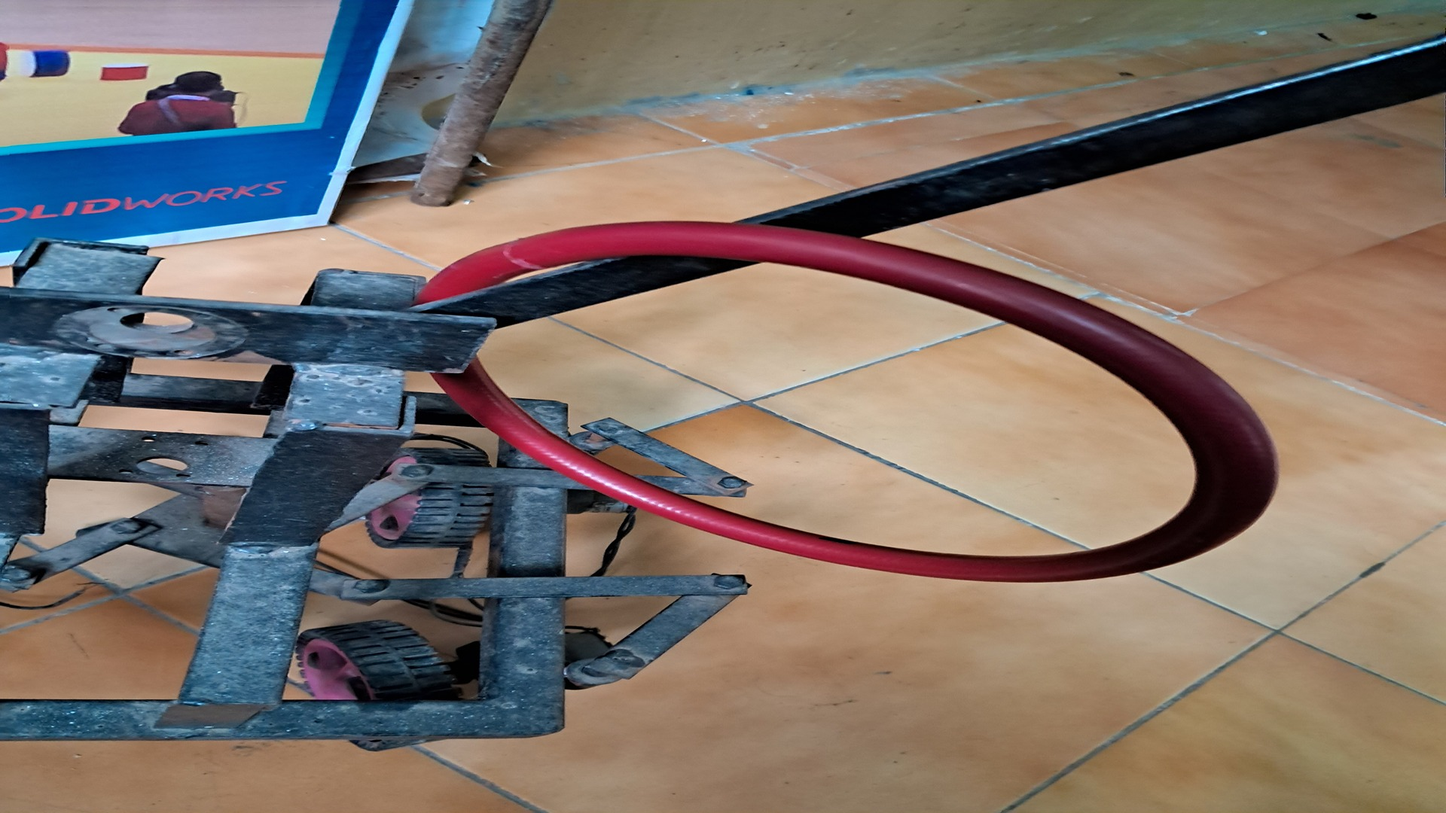Red ring: (422, 220, 1275, 584)
